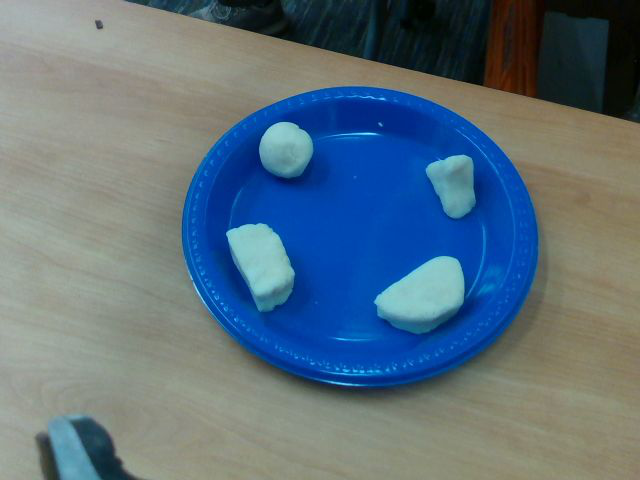mashed_potato: (375, 256, 464, 333), (226, 222, 295, 312), (259, 122, 314, 180), (426, 155, 476, 218)
